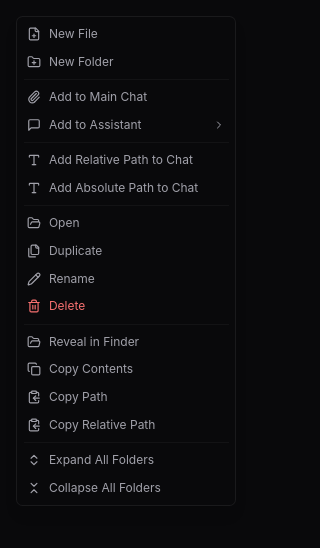
Test: FileTreeContextMenu › file context menu › shows assistant names when assistants exist
The image size is (320, 548).
Click the button "Add to Assistant" at (126, 125), box [17,111,235,139]
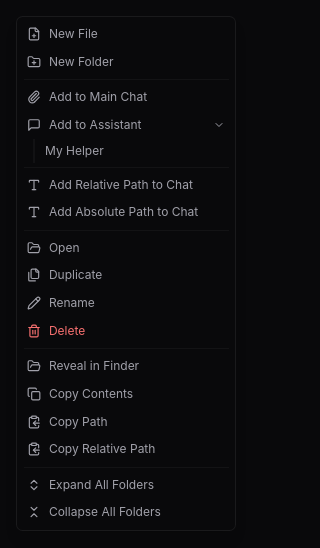
expect the button "My Helper" is shown: met, box [35,139,235,163]
